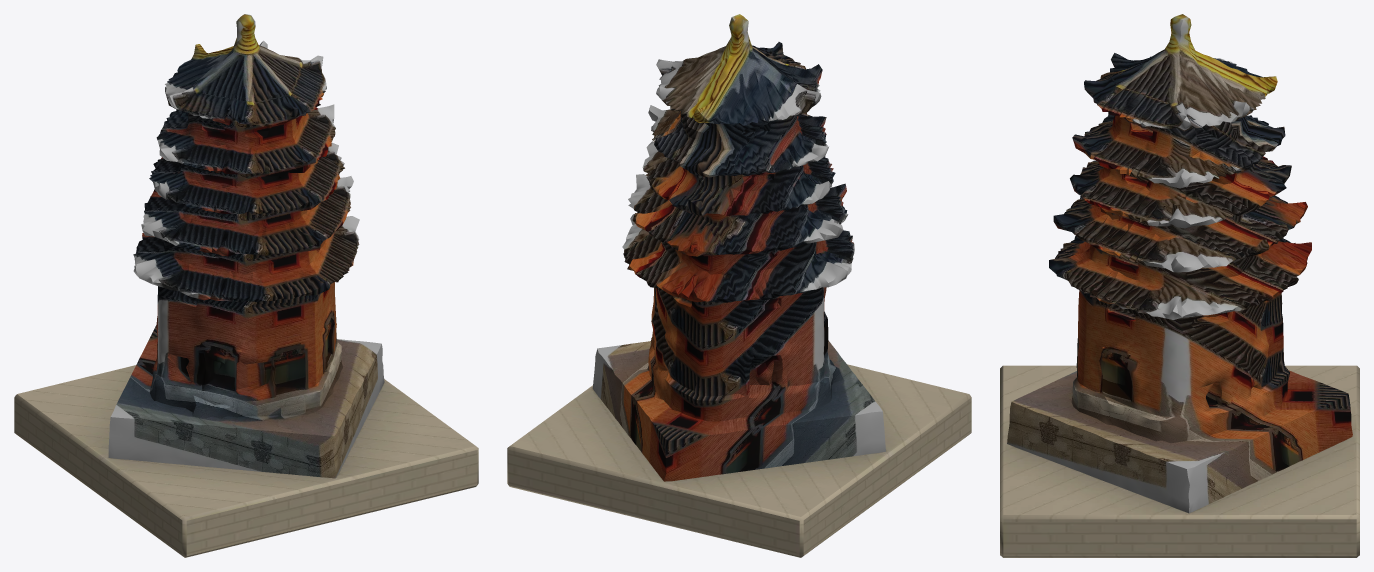
File: b_leifeng.glb
3 renders of one model, left to right at view 1: azimuth 30°, elevation 25°; view 2: azimuth 150°, elevation 25°; view 3: azimuth 270°, elevation 25°, orthographic. The views are drawn at different scales.
Parts seen in each view (by area): view 1: geometry_0, b_pagoda; view 2: geometry_0, b_pagoda; view 3: geometry_0, b_pagoda.
Boxes of the visible parts, box(x1,y1,x2,y2) form: geometry_0: box(108, 14, 384, 478); b_pagoda: box(14, 365, 478, 557); geometry_0: box(592, 14, 885, 481); b_pagoda: box(507, 364, 971, 557); geometry_0: box(1007, 14, 1352, 513); b_pagoda: box(1000, 365, 1359, 557).
Size of the model in its own units: 4.55 by 6.52 by 4.55.
Materials: 2 (2 with a texture image).
